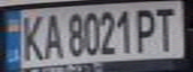0: (81, 8, 100, 56)
1: (115, 6, 133, 54)
2: (100, 7, 118, 56)
8: (63, 8, 84, 57)
A: (39, 10, 63, 61)
K: (18, 11, 45, 62)
P: (133, 4, 160, 54)
T: (151, 3, 181, 53)
